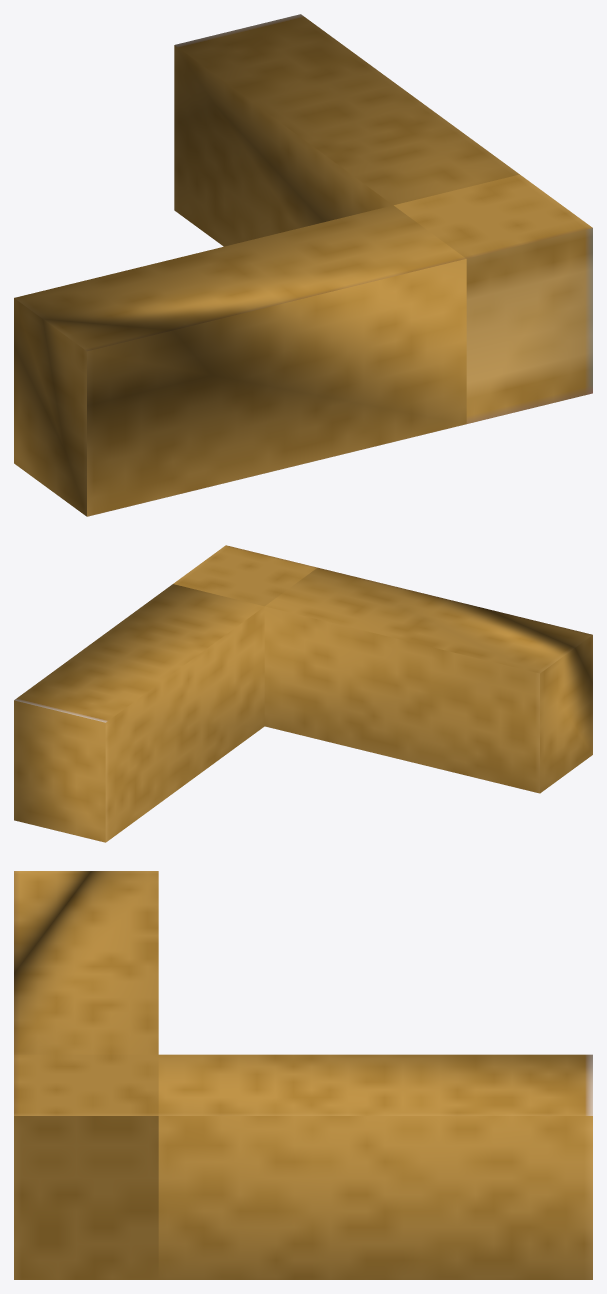
Rendered from esquinasuperiorbarcogrecia.fbx.
3 views of the same model, one above another, from view 1: azimuth 30°, elevation 25°; view 2: azimuth 150°, elevation 25°; view 3: azimuth 270°, elevation 25° (orthographic). The views are drawn at different scales.
Parts seen in each view (by area): view 1: Cube; view 2: Cube; view 3: Cube.
Part boxes in pixels (x1,y1,x2,y2): Cube: (14,14,592,516); Cube: (14,545,592,842); Cube: (14,871,592,1279).
Size of the model in its own units: 1 by 1 by 0.3125.
Materials: 1 (1 with a texture image).
